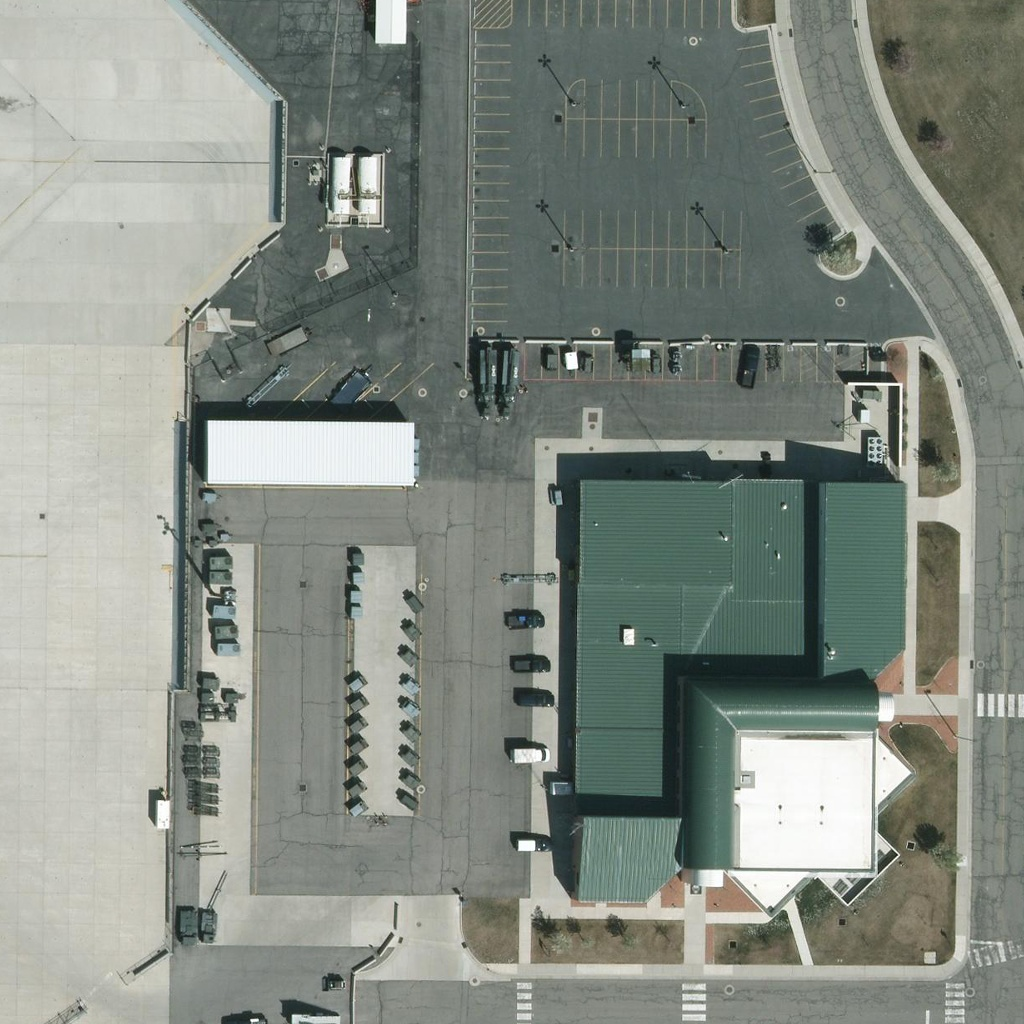car: (735, 345, 761, 389), (506, 607, 543, 631), (514, 689, 552, 709), (508, 746, 546, 766), (514, 834, 552, 854), (507, 658, 549, 672)
